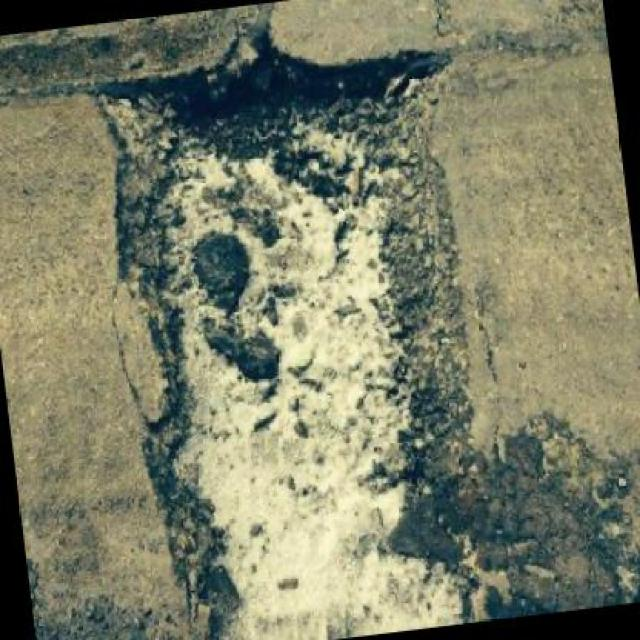pothole: (80, 11, 535, 640)
